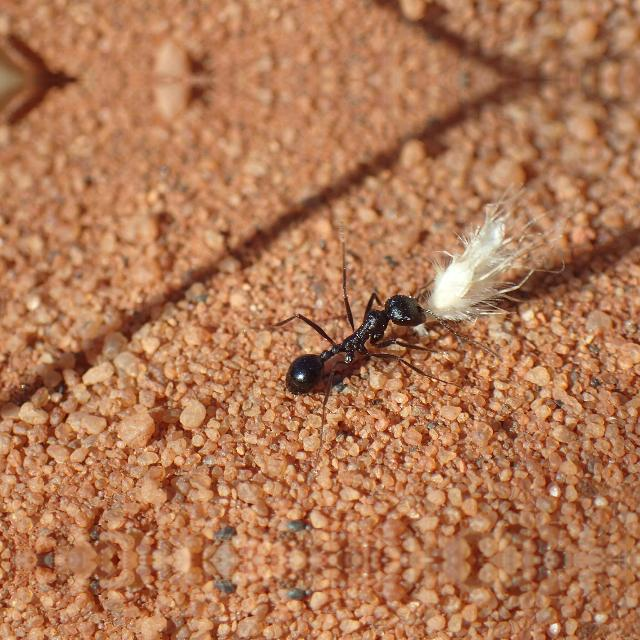Messor: (271, 264, 449, 411)
